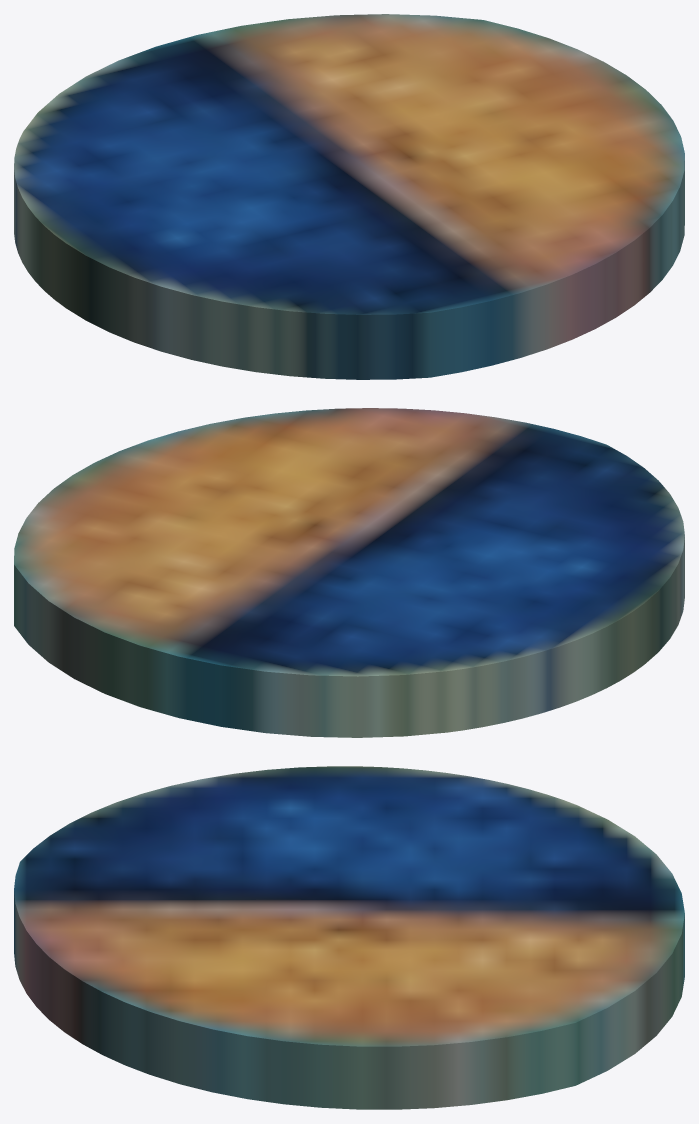
File: El origen de nuestra 4.dae
3 views of the same model, one above another, from view 1: azimuth 30°, elevation 25°; view 2: azimuth 150°, elevation 25°; view 3: azimuth 270°, elevation 25° (orthographic). The views are drawn at different scales.
Visible parts, largest first — view 1: SketchUp; view 2: SketchUp; view 3: SketchUp.
Part boxes in pixels (box(x1,y1,x2,y2)): SketchUp: box(14, 14, 684, 379); SketchUp: box(14, 408, 684, 737); SketchUp: box(14, 766, 684, 1109).
Bounding box in the file's own units: 4.18 × 4.22 × 0.4375.
Materials: 1 (1 with a texture image).
